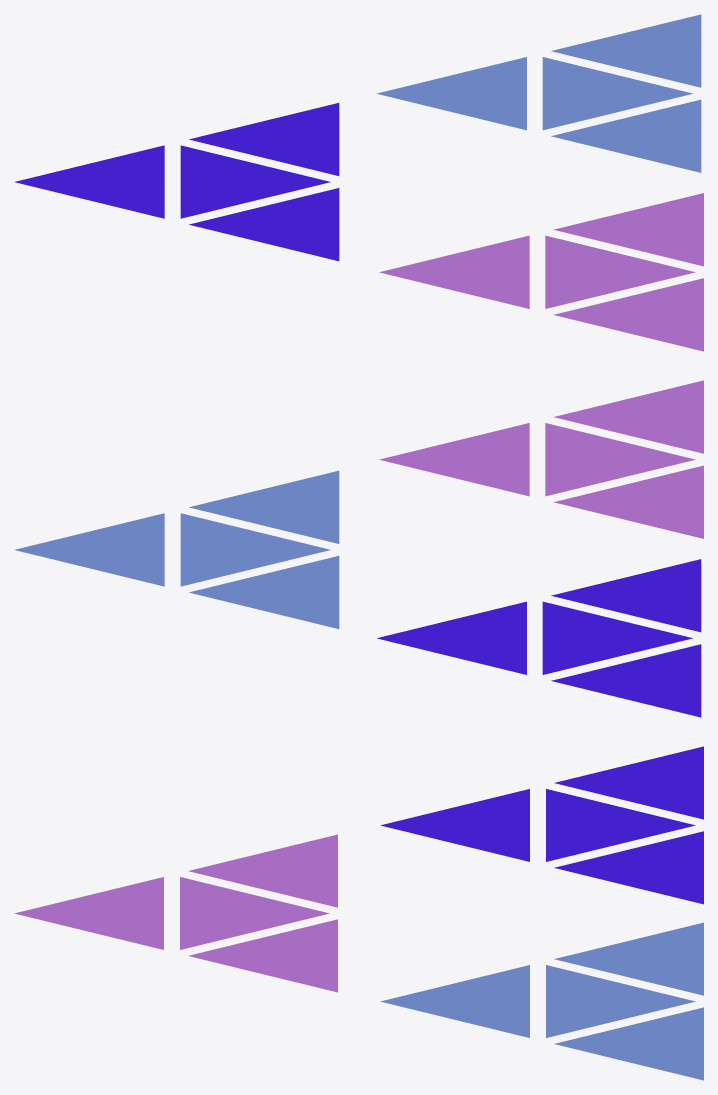
File: Testarenafloor.glb
The picture shows the model from 3 angles, top to bottom: view 1: azimuth 30°, elevation 25°; view 2: azimuth 150°, elevation 25°; view 3: azimuth 270°, elevation 25°; orthographic projection.
Visible parts, largest first — view 1: Object_9.002, Object_4.002, Object_3.003, Object_8.005, Object_5.004, Object_6.004, Object_10.001, Object_13.001, Object_1.002, Object_7.004, Object_11.001, Object_12.001; view 2: Object_5.004, Object_7.004, Object_6.004, Object_1.002, Object_9.002, Object_4.002, Object_11.001, Object_13.001, Object_8.005, Object_3.003, Object_10.001, Object_12.001; view 3: Object_7.004, Object_3.003, Object_11.001, Object_10.001, Object_8.005, Object_1.002, Object_9.002, Object_5.004, Object_13.001, Object_6.004, Object_4.002, Object_12.001.
Part boxes in pixels (x1,y1,x2,y2): Object_9.002: (542, 57, 692, 130); Object_4.002: (189, 188, 339, 261); Object_3.003: (189, 103, 339, 175); Object_8.005: (551, 14, 701, 87); Object_5.004: (180, 145, 330, 218); Object_6.004: (551, 99, 701, 172); Object_10.001: (379, 235, 529, 308); Object_13.001: (545, 235, 695, 308); Object_1.002: (14, 145, 164, 218); Object_7.004: (377, 57, 526, 130); Object_11.001: (554, 193, 703, 266); Object_12.001: (554, 278, 703, 351); Object_5.004: (542, 601, 692, 674); Object_7.004: (189, 556, 339, 628); Object_6.004: (189, 470, 339, 543); Object_1.002: (551, 644, 701, 717); Object_9.002: (180, 513, 330, 586); Object_4.002: (551, 559, 701, 632); Object_11.001: (379, 423, 529, 496); Object_13.001: (545, 423, 695, 496); Object_8.005: (14, 513, 164, 586); Object_3.003: (377, 601, 526, 674); Object_10.001: (554, 465, 703, 538); Object_12.001: (554, 380, 703, 453); Object_7.004: (554, 922, 703, 995); Object_3.003: (554, 831, 703, 904); Object_11.001: (188, 919, 337, 992); Object_10.001: (188, 834, 337, 907); Object_8.005: (554, 1007, 703, 1080); Object_1.002: (554, 746, 703, 819); Object_9.002: (546, 965, 695, 1037); Object_5.004: (546, 789, 695, 861); Object_13.001: (180, 877, 329, 949); Object_6.004: (380, 965, 529, 1037); Object_4.002: (380, 789, 529, 861); Object_12.001: (14, 877, 163, 949).
Size of the model in its own units: 104 by 0 by 90.51.
